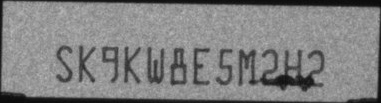2: (306, 49, 325, 86), (261, 47, 278, 86)
5: (215, 48, 233, 86)
8: (170, 46, 187, 85)
9: (101, 45, 119, 83)
E: (193, 47, 210, 86)
H: (284, 49, 303, 85)
K: (78, 45, 96, 84), (124, 46, 141, 84)
M: (238, 48, 258, 86)
S: (55, 43, 72, 84)
W: (147, 46, 164, 84)
